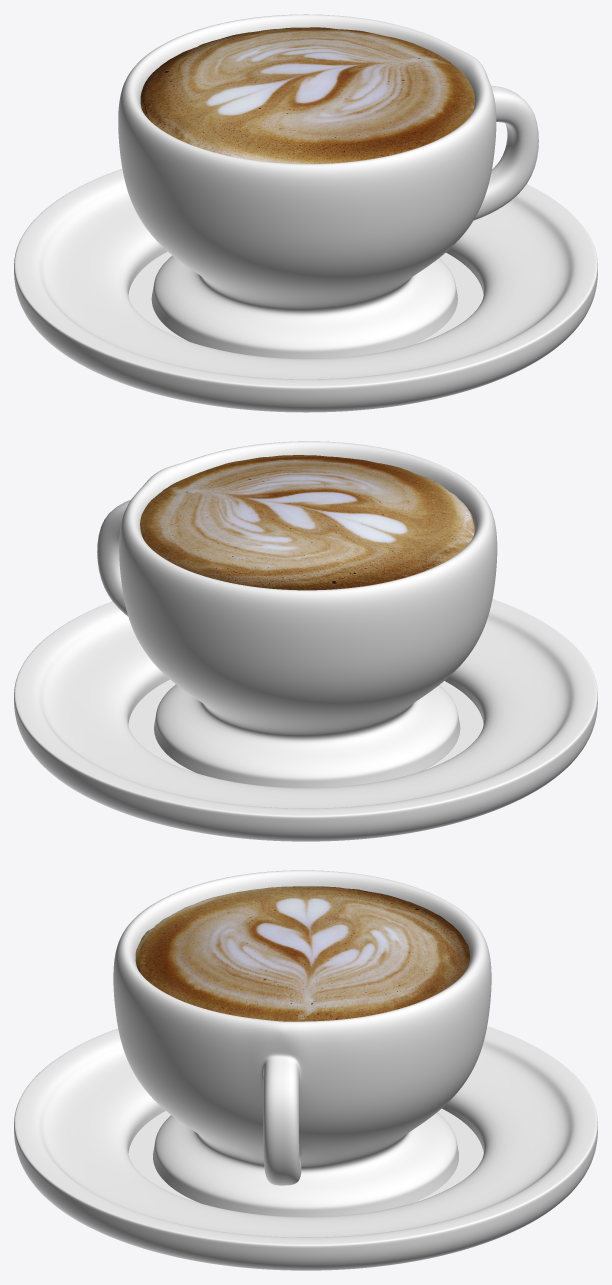
Rendered from coffee_cup.glb.
3 renders of one model, top to bottom at view 1: azimuth 30°, elevation 25°; view 2: azimuth 150°, elevation 25°; view 3: azimuth 270°, elevation 25°, orthographic.
Parts seen in each view (by area): view 1: Cylinder.003, Cylinder.001, Cylinder.005; view 2: Cylinder.003, Cylinder.001, Cylinder.005; view 3: Cylinder.003, Cylinder.001, Cylinder.005.
Boxes of the visible parts, x1=… form: Cylinder.003: x1=118, y1=14, x2=538, y2=358; Cylinder.001: x1=14, y1=169, x2=597, y2=412; Cylinder.005: x1=140, y1=27, x2=474, y2=163; Cylinder.003: x1=97, y1=441, x2=497, y2=787; Cylinder.001: x1=14, y1=599, x2=597, y2=841; Cylinder.005: x1=140, y1=455, x2=474, y2=590; Cylinder.003: x1=113, y1=870, x2=491, y2=1216; Cylinder.001: x1=14, y1=1026, x2=597, y2=1270; Cylinder.005: x1=135, y1=886, x2=469, y2=1021.
Bounding box in the file's own units: 166 × 71.65 × 166.
3 materials, 1 textured.
